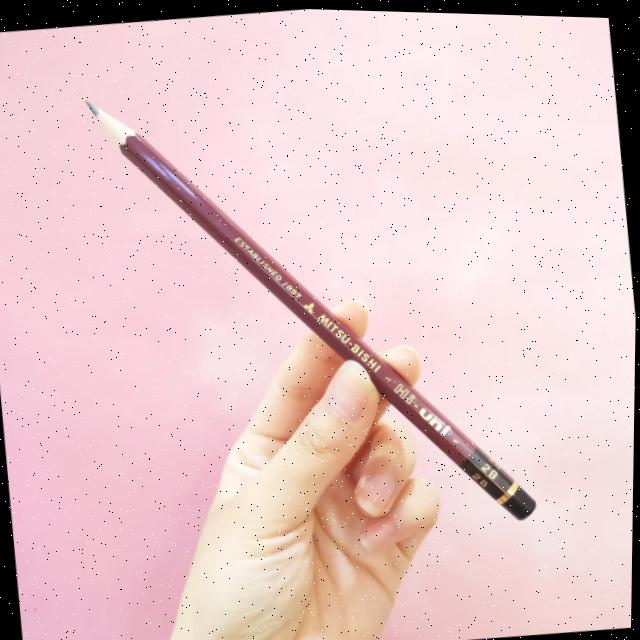pencil: (74, 90, 550, 527)
